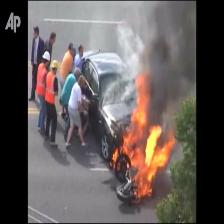fire: (126, 96, 171, 194)
smoke: (137, 4, 194, 88)
